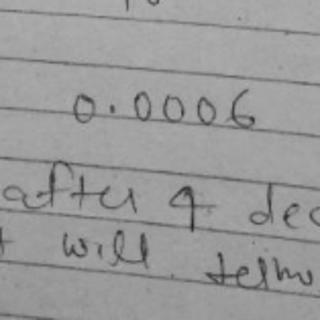.: (105, 101, 118, 118)
0: (71, 91, 99, 125), (198, 96, 218, 126), (132, 94, 153, 122), (164, 96, 186, 121)
4: (168, 183, 216, 236)
6: (226, 84, 261, 132)
